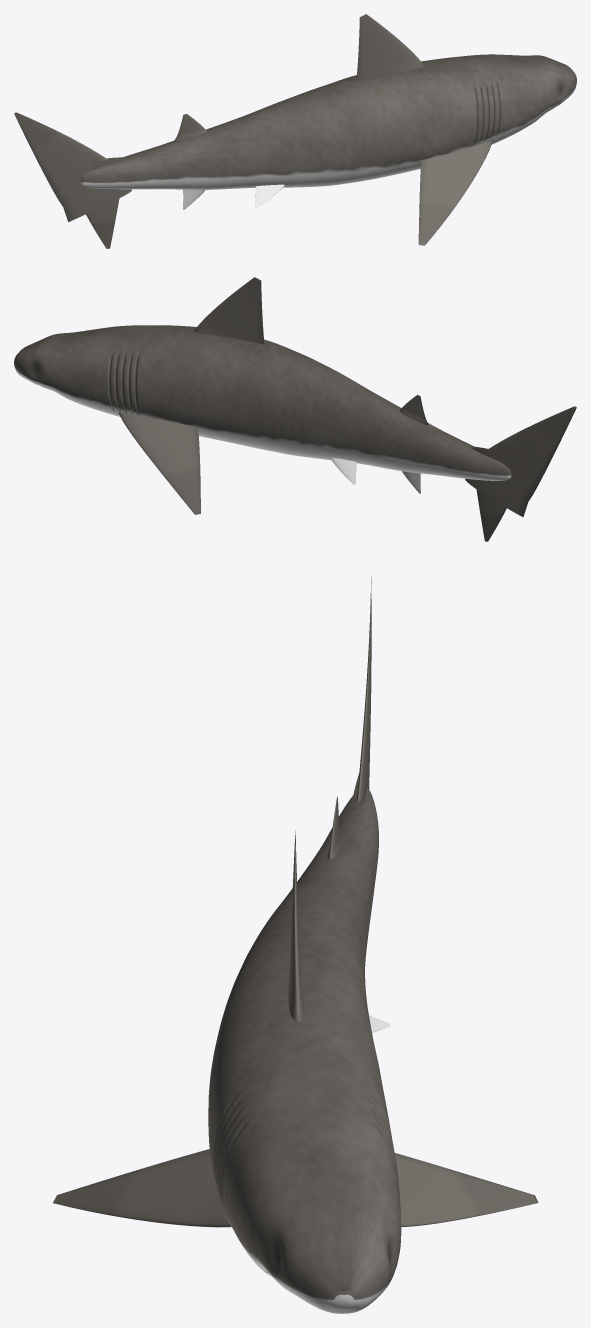
File: sandbar_shark.glb
3 renders of one model, top to bottom at view 1: azimuth 30°, elevation 25°; view 2: azimuth 150°, elevation 25°; view 3: azimuth 270°, elevation 25°, orthographic. The views are drawn at different scales.
Visible parts, largest first — view 1: sandbar_shark_Body, sandbar_shark_Fins; view 2: sandbar_shark_Body, sandbar_shark_Fins; view 3: sandbar_shark_Body, sandbar_shark_Fins.
Part boxes in pixels (<box>): sandbar_shark_Body: <box>81,54,576,189</box>; sandbar_shark_Fins: <box>14,14,492,248</box>; sandbar_shark_Body: <box>14,325,511,480</box>; sandbar_shark_Fins: <box>118,277,576,541</box>; sandbar_shark_Body: <box>208,788,401,1313</box>; sandbar_shark_Fins: <box>52,577,538,1227</box>.
Size of the model in its own units: 2 by 0.6472 by 0.7598.
Materials: 3 (1 with a texture image).
